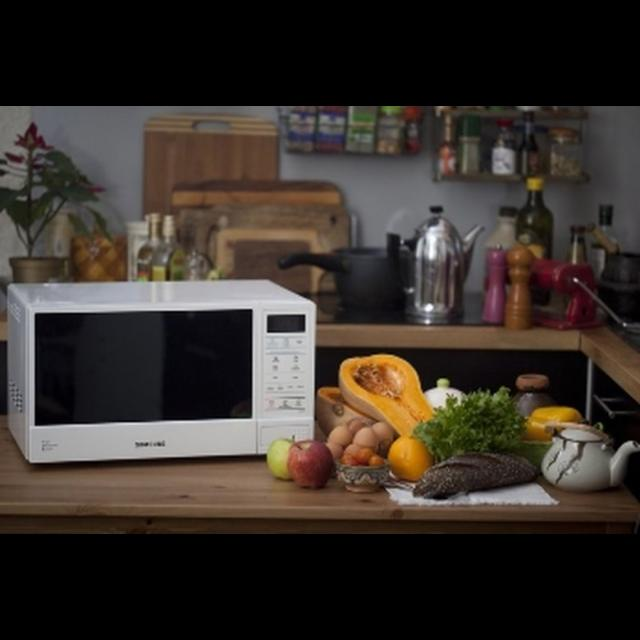Microwave: (5, 277, 322, 467)
